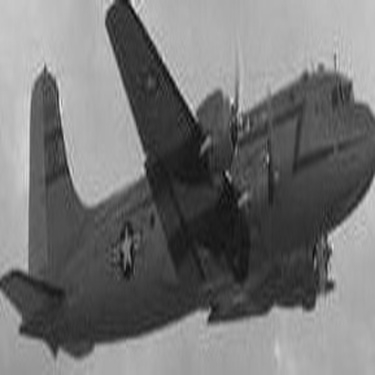airplane: (1, 17, 364, 355)
